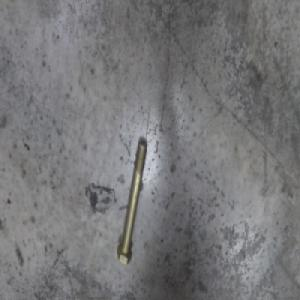Bolt: (118, 139, 152, 260)
